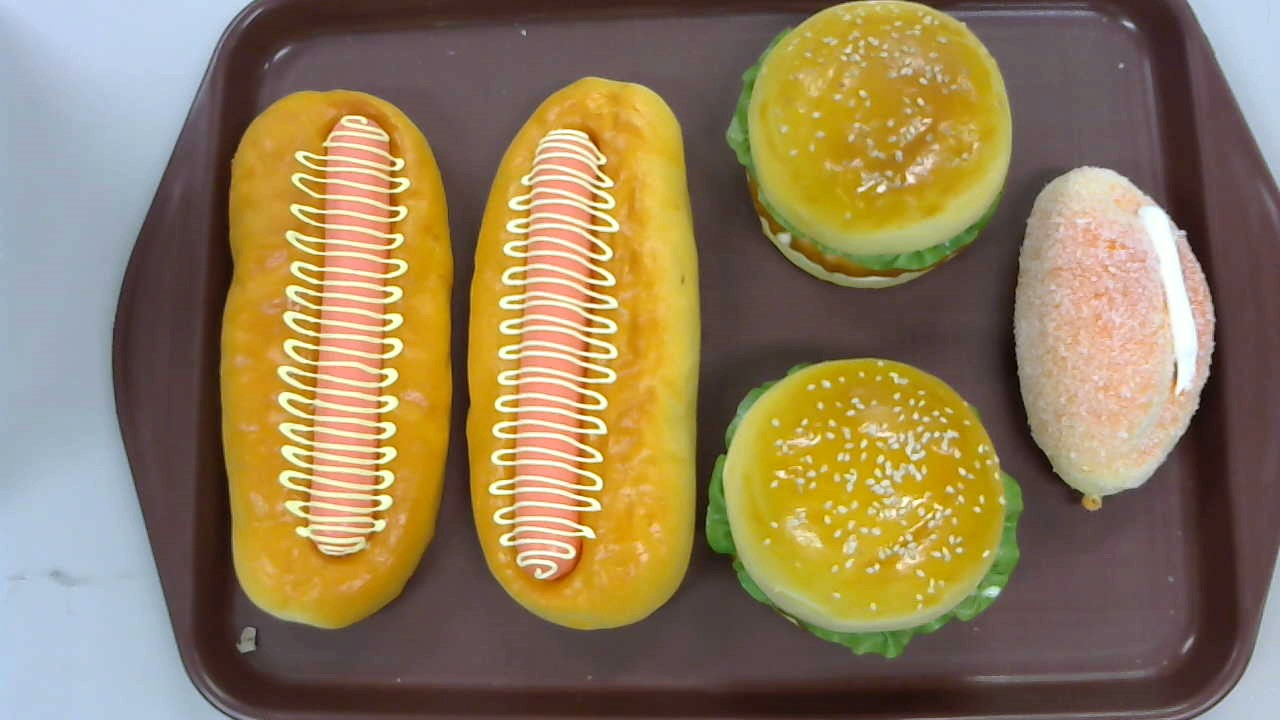coconut: (1014, 166, 1214, 512)
hamburger: (706, 357, 1026, 659), (725, 1, 1014, 290)
hot dog: (466, 75, 703, 631), (220, 90, 452, 628)
